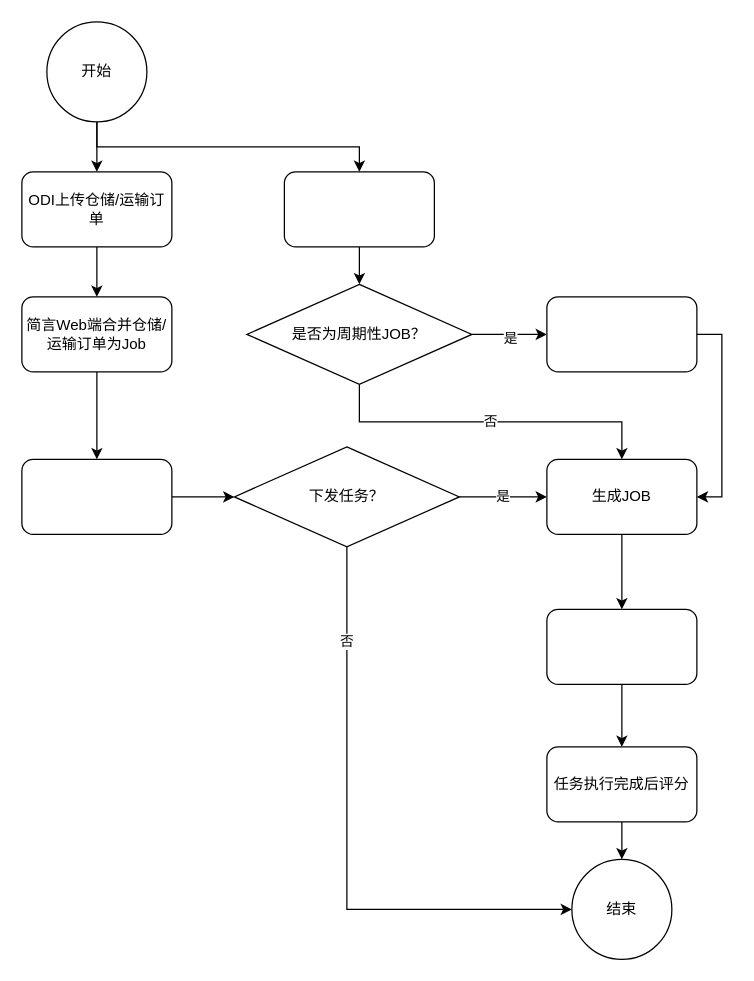
Some shapes in this 754 by 981 pixel diagram are drawn without their labels. The box of each missing label's shape, as (x1, y1, x2, y2) in pixels:
为JOB配置任务与执行人: (21, 458, 172, 534)
各任务执行人执行任务: (546, 608, 697, 684)
手动创建JOB: (283, 171, 434, 247)
设置JOB周期: (546, 296, 697, 372)
